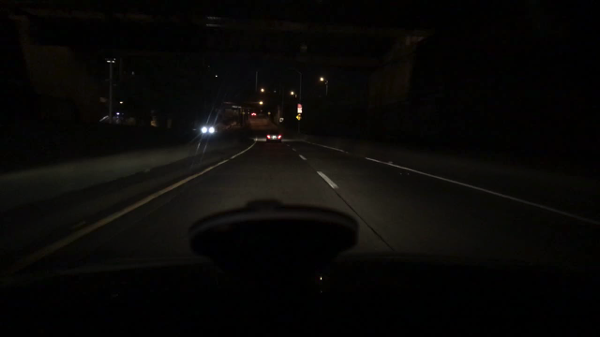car: (265, 127, 285, 143), (199, 123, 220, 138), (250, 111, 257, 118)
traffic sign: (296, 104, 302, 113), (295, 114, 301, 120), (278, 117, 283, 124), (268, 110, 272, 116)
